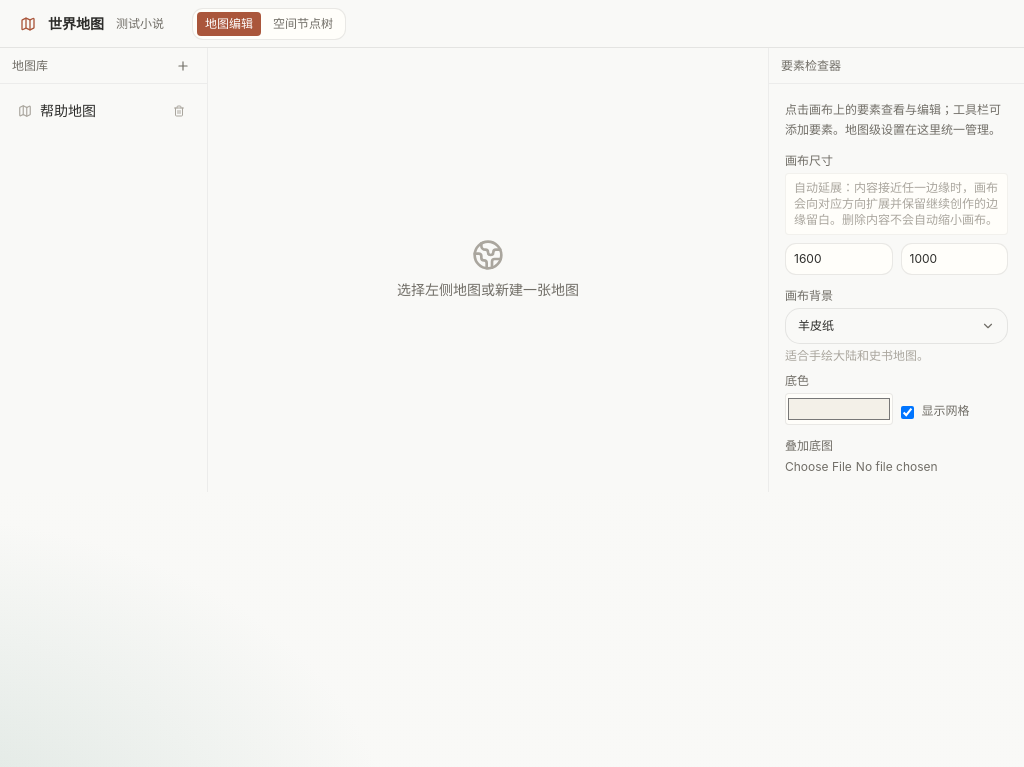
it: MapEditor（地图阶段验收） › 地图帮助说明快捷键和当前地图类型的使用方法
What coordinates should you click on to do the following:
click the button "帮助地图"
I would click on:
 (104, 110)
Its box is [8,92,199,129].
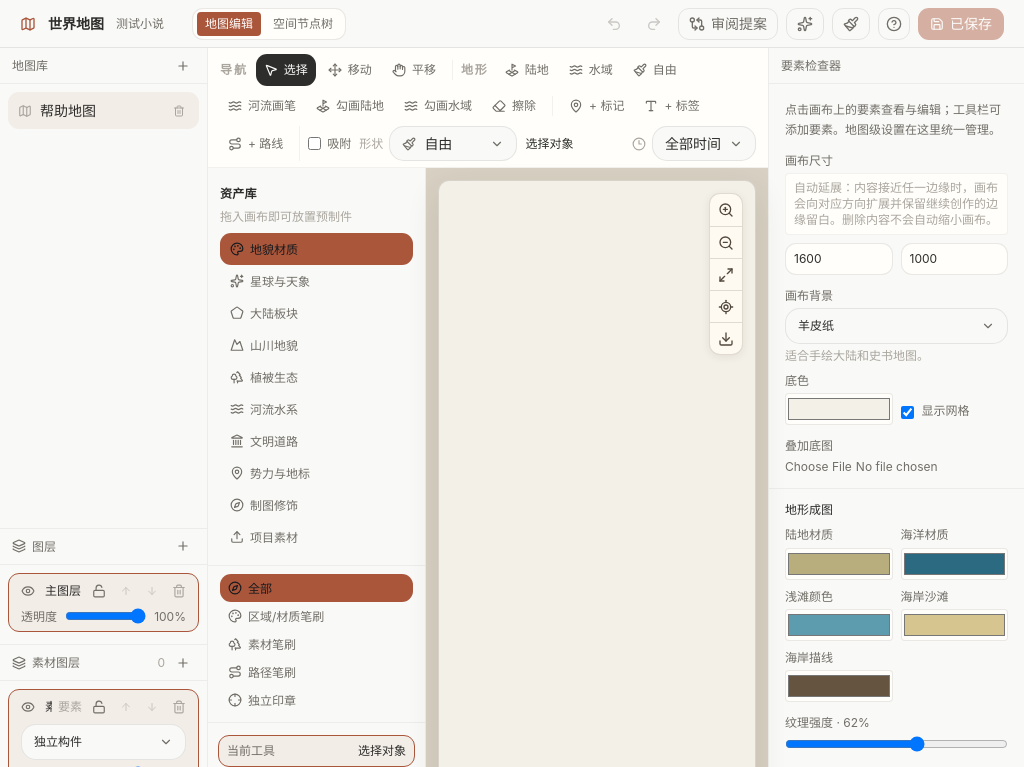
What coordinates should you click on to do the following:
click the button named "地图帮助"
I would click on:
 (894, 24)
Its box is [878,8,910,40].
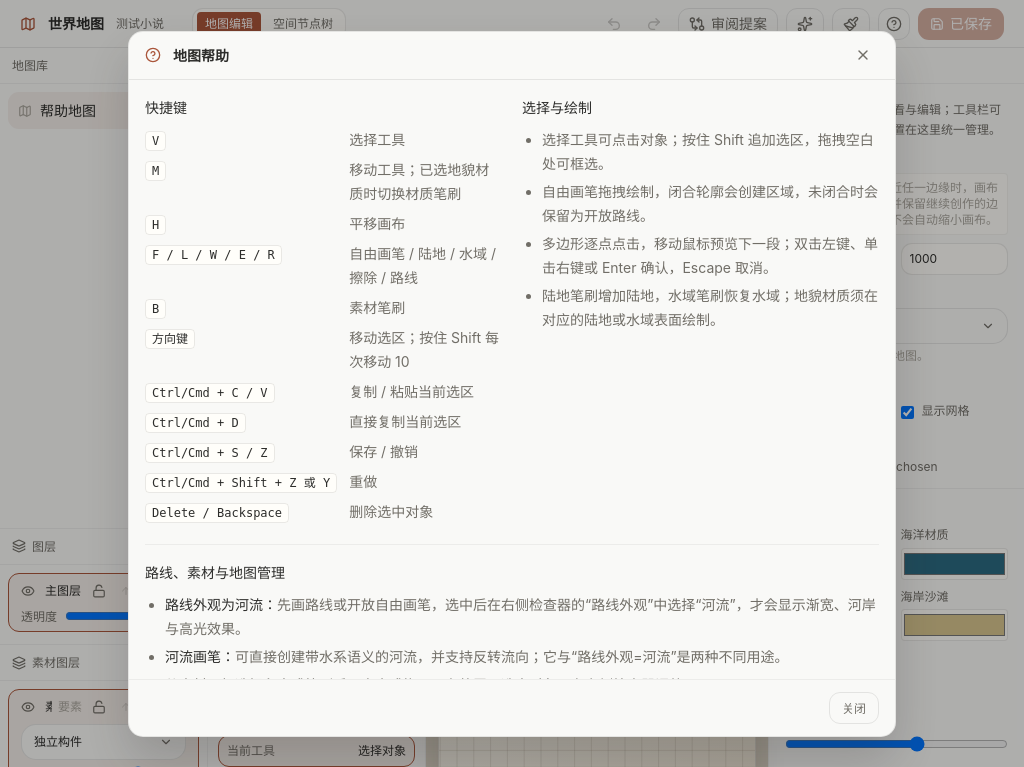
Expected: the dialog "地图帮助" is shown
Expected: the text "Ctrl/Cmd + C / V" is shown, [145,383,275,403]
Expected: the heading "选择与绘制" is shown, [522,99,592,116]
What coordinates should you click on to do the following:
click the button named "关闭地图帮助"
I would click on:
 (863, 55)
Its box is [847,39,879,71].
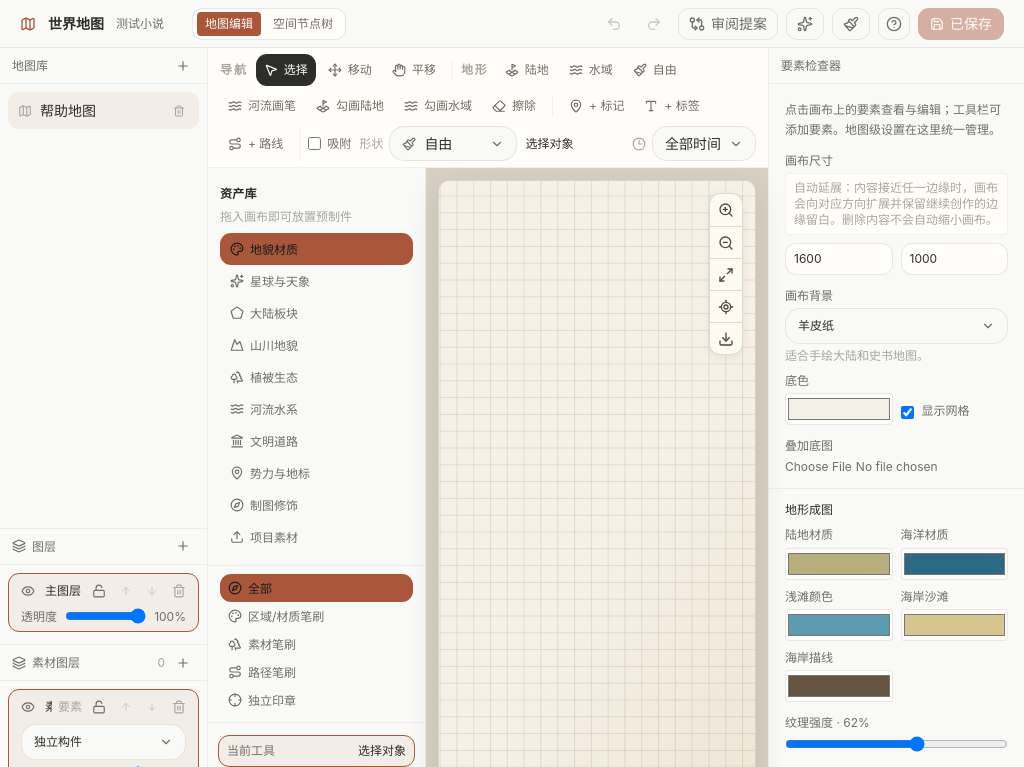
Expected: the heading "地图帮助" is gone
